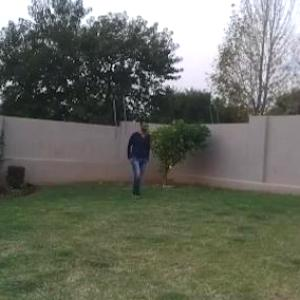follow: (124, 114, 151, 200)
